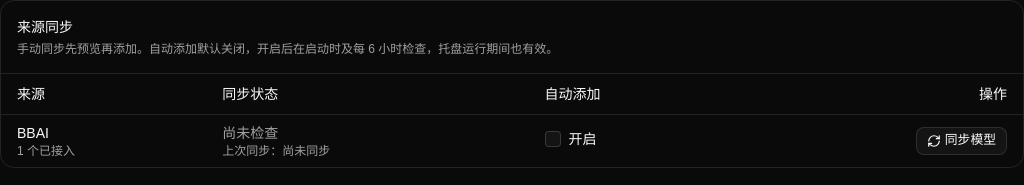
Test: source model synchronization › keeps automatic additions off until enabled and persists the returned state
Click the checkbox named "自动添加 BBAI 新模型" at x=552, y=139, box x1=544 y1=131 x2=560 y2=147
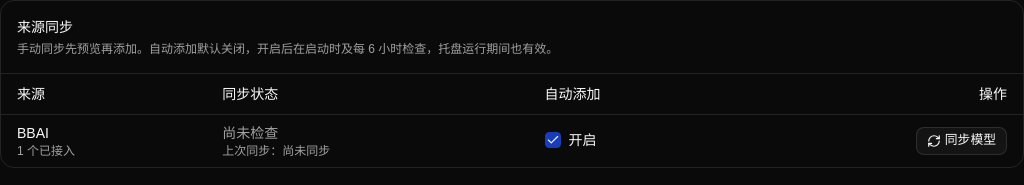
Expected: the checkbox named "自动添加 BBAI 新模型" is checked, x1=544 y1=132 x2=560 y2=148
